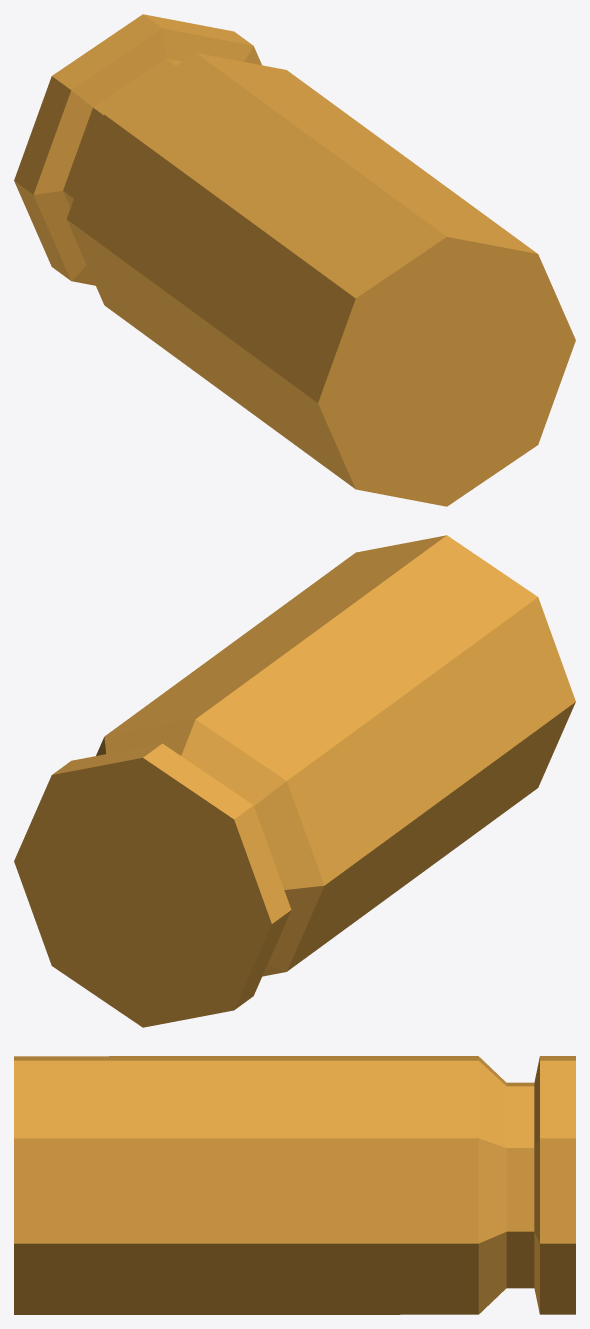
File: Glock_Bullet_Shell.fbx
3 renders of one model, top to bottom at view 1: azimuth 30°, elevation 25°; view 2: azimuth 150°, elevation 25°; view 3: azimuth 270°, elevation 25°, orthographic. The views are drawn at different scales.
Visible parts, largest first — view 1: Glock_Bullet_Shell; view 2: Glock_Bullet_Shell; view 3: Glock_Bullet_Shell.
Part boxes in pixels (left/top/right/bottom): Glock_Bullet_Shell: left=14, top=14, right=575, bottom=506; Glock_Bullet_Shell: left=14, top=535, right=575, bottom=1027; Glock_Bullet_Shell: left=14, top=1056, right=575, bottom=1314.
Bounding box in the file's own units: 1.11 × 1.11 × 2.27.
